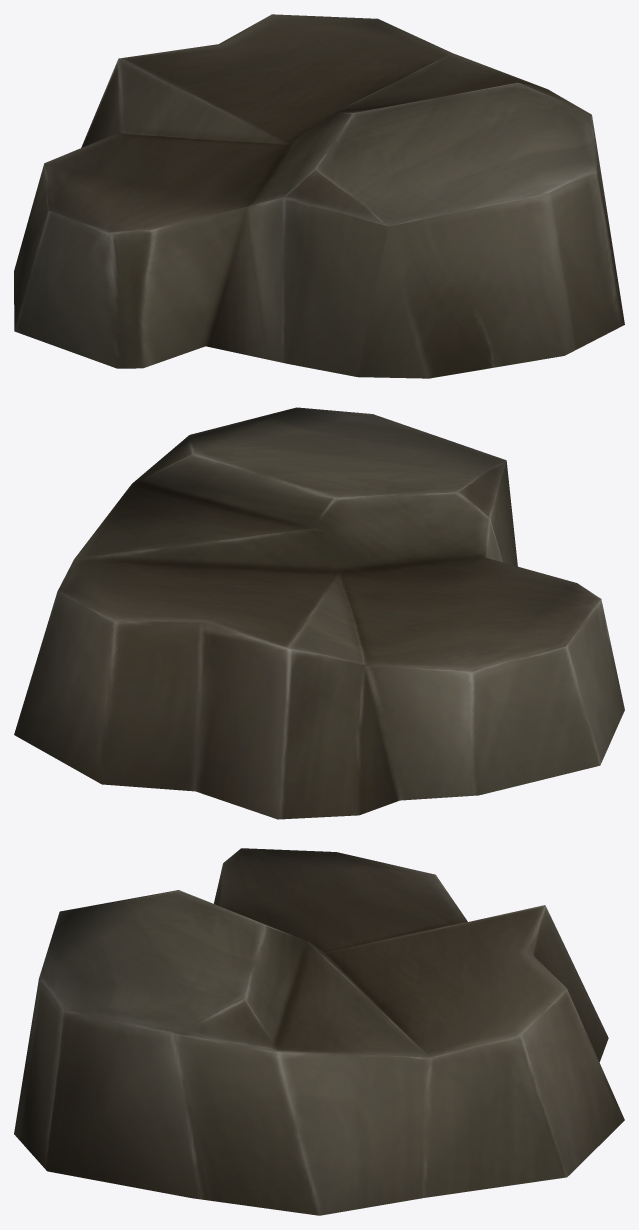
File: A_CV_GEN_Floor_04.fbx
3 renders of one model, top to bottom at view 1: azimuth 30°, elevation 25°; view 2: azimuth 150°, elevation 25°; view 3: azimuth 270°, elevation 25°, orthographic.
Visible parts, largest first — view 1: A_CV_GEN_Floor_04; view 2: A_CV_GEN_Floor_04; view 3: A_CV_GEN_Floor_04.
Part boxes in pixels (x1=…): A_CV_GEN_Floor_04: x1=14, y1=14, x2=624, y2=378; A_CV_GEN_Floor_04: x1=14, y1=407, x2=624, y2=819; A_CV_GEN_Floor_04: x1=14, y1=848, x2=624, y2=1215.
Size of the model in its own units: 6172 by 1807 by 5922.
Materials: 1 (1 with a texture image).
